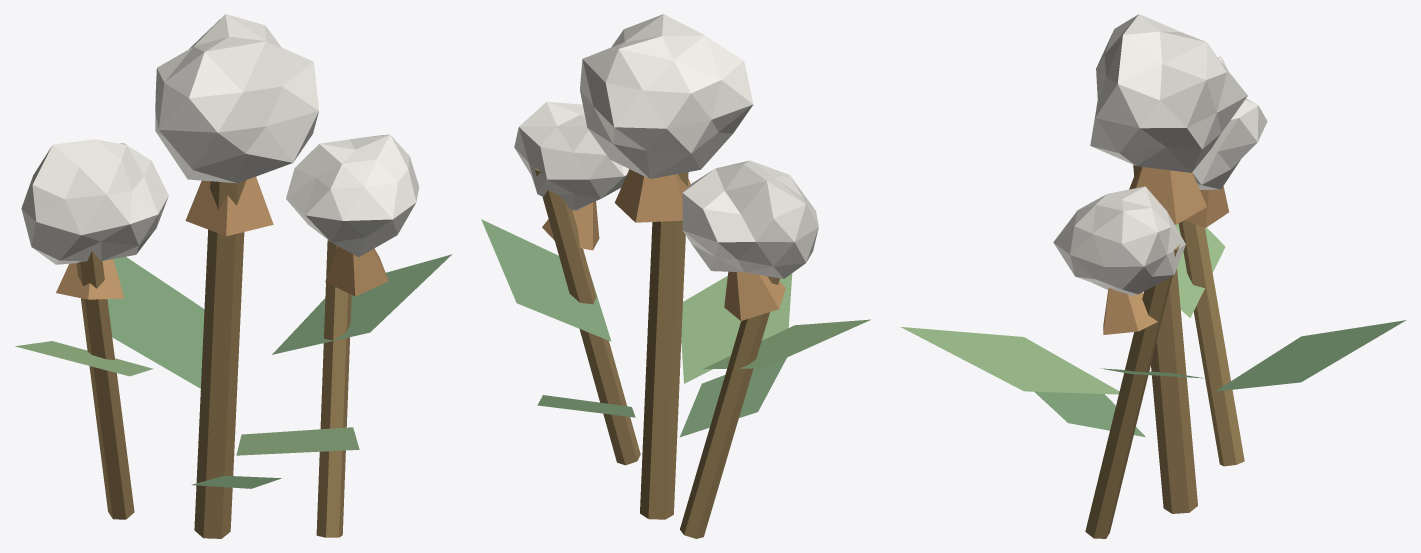
The model's file is t1_fiber_full.glb.
The picture shows the model from 3 angles, left to right: view 1: azimuth 30°, elevation 25°; view 2: azimuth 150°, elevation 25°; view 3: azimuth 270°, elevation 25°; orthographic projection. The views are drawn at different scales.
Parts seen in each view (by area): view 1: CenterCottonBoll, LeftCottonBoll, CenterStem, RightCottonBoll, BackLeaf, LeftStem, RightStem, RightLeaf, CenterHusk, FrontLeaf, RightHusk, LeftLeaf (+2 smaller); view 2: CenterCottonBoll, LeftCottonBoll, CenterStem, RightCottonBoll, RightStem, LeftStem, RightLeaf, FrontLeaf, CenterHusk, LowLeaf, LeftLeaf, LeftHusk (+2 smaller); view 3: CenterCottonBoll, RightCottonBoll, CenterStem, FrontLeaf, RightStem, LeftStem, BackLeaf, LeftCottonBoll, CenterHusk, LowLeaf, RightHusk, LeftLeaf (+1 smaller).
Part boxes in pixels (<box>): CenterCottonBoll: <box>155,14,318,183</box>; LeftCottonBoll: <box>21,139,168,264</box>; CenterStem: <box>194,180,245,538</box>; RightCottonBoll: <box>286,134,419,257</box>; BackLeaf: <box>107,257,204,388</box>; LeftStem: <box>76,251,134,519</box>; RightStem: <box>316,240,351,537</box>; RightLeaf: <box>272,254,451,354</box>; CenterHusk: <box>185,176,273,236</box>; FrontLeaf: <box>236,427,359,455</box>; RightHusk: <box>325,246,388,296</box>; LeftLeaf: <box>15,341,153,376</box>; CenterCottonBoll: <box>580,14,753,178</box>; LeftCottonBoll: <box>682,160,818,278</box>; CenterStem: <box>640,172,688,519</box>; RightCottonBoll: <box>514,102,629,210</box>; RightStem: <box>535,168,640,465</box>; LeftStem: <box>680,276,779,538</box>; RightLeaf: <box>481,219,611,341</box>; FrontLeaf: <box>681,273,792,383</box>; CenterHusk: <box>614,169,690,222</box>; LowLeaf: <box>680,357,786,437</box>; LeftLeaf: <box>703,319,870,368</box>; LeftHusk: <box>724,271,785,320</box>; CenterCottonBoll: <box>1090,14,1247,172</box>; RightCottonBoll: <box>1053,186,1185,295</box>; CenterStem: <box>1133,165,1197,513</box>; FrontLeaf: <box>901,327,1119,394</box>; RightStem: <box>1085,245,1179,538</box>; LeftStem: <box>1178,220,1244,466</box>; BackLeaf: <box>1215,320,1406,391</box>; LeftCottonBoll: <box>1192,56,1267,189</box>; CenterHusk: <box>1129,167,1206,224</box>; LowLeaf: <box>1034,391,1145,437</box>; RightHusk: <box>1103,287,1157,334</box>; LeftLeaf: <box>1175,223,1225,317</box>.
Bounding box in the file's own units: 0.9519 × 1.08 × 1.02.
